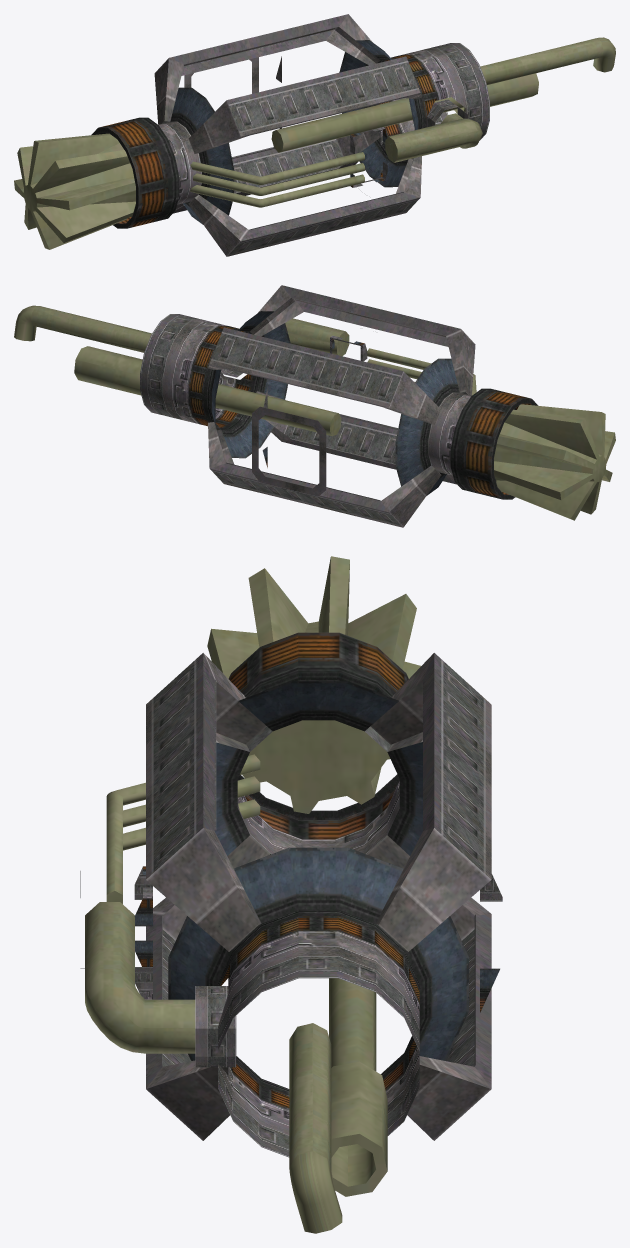
File: ship_component_engine_s02_l0.fbx
3 renders of one model, top to bottom at view 1: azimuth 30°, elevation 25°; view 2: azimuth 150°, elevation 25°; view 3: azimuth 270°, elevation 25°, orthographic. The views are drawn at different scales.
Visible parts, largest first — view 1: mesh_node; view 2: mesh_node; view 3: mesh_node.
Boxes of the visible parts, x1,y1,x2,y2 form: mesh_node: (14,14,615,256); mesh_node: (14,285,615,527); mesh_node: (80,556,502,1233).
Size of the model in its own units: 3.57 by 0.9777 by 1.29.
2 materials, 2 textured.
